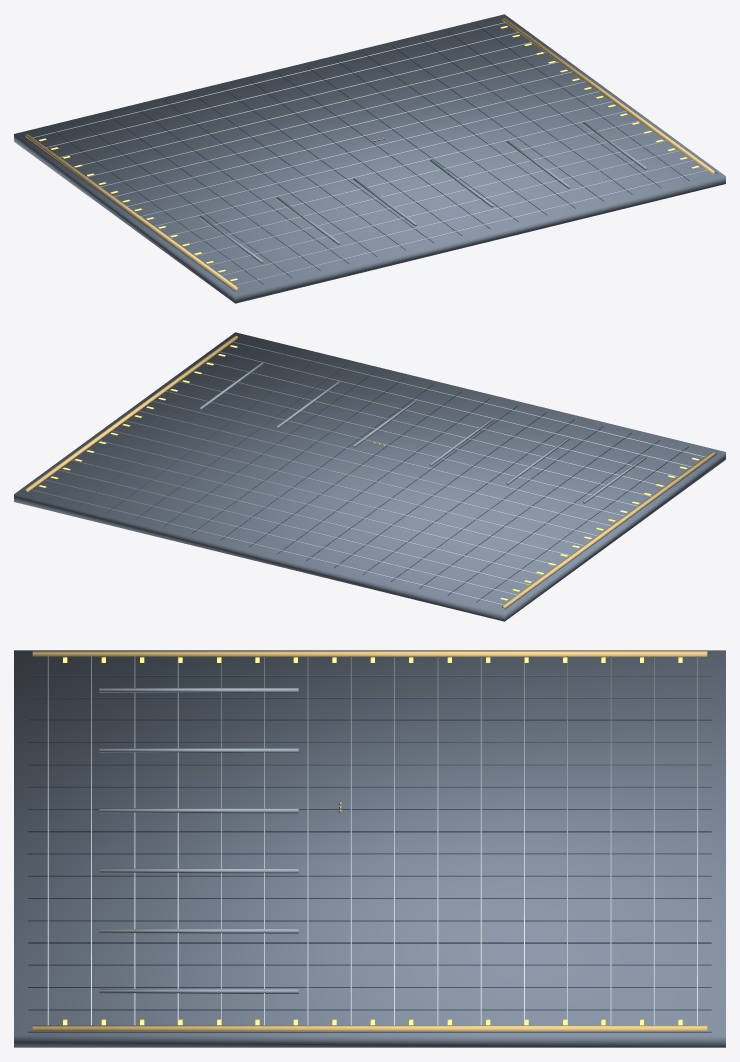
Rendered from 00_L90_OrbitalPropulsionQualificationDeck.glb.
3 renders of one model, top to bottom at view 1: azimuth 30°, elevation 25°; view 2: azimuth 150°, elevation 25°; view 3: azimuth 270°, elevation 25°, orthographic. The views are drawn at different scales.
Parts seen in each view (by area): view 1: L90_OrbitalPropulsionQualific_Part_0000, L90_OrbitalPropulsionQualific_Part_0002, L90_OrbitalPropulsionQualific_Part_0001, L90_OrbitalPropulsionQualific_Part_0003, L90_OrbitalPropulsionQualific_Part_0006; view 2: L90_OrbitalPropulsionQualific_Part_0000, L90_OrbitalPropulsionQualific_Part_0002, L90_OrbitalPropulsionQualific_Part_0001, L90_OrbitalPropulsionQualific_Part_0003, L90_OrbitalPropulsionQualific_Part_0006; view 3: L90_OrbitalPropulsionQualific_Part_0000, L90_OrbitalPropulsionQualific_Part_0001, L90_OrbitalPropulsionQualific_Part_0002, L90_OrbitalPropulsionQualific_Part_0003, L90_OrbitalPropulsionQualific_Part_0006.
Boxes of the visible parts, x1,y1,x2,y2 form: L90_OrbitalPropulsionQualific_Part_0000: (14,14,725,303); L90_OrbitalPropulsionQualific_Part_0002: (33,22,707,285); L90_OrbitalPropulsionQualific_Part_0001: (23,18,717,291); L90_OrbitalPropulsionQualific_Part_0003: (25,17,714,290); L90_OrbitalPropulsionQualific_Part_0006: (199,122,646,263); L90_OrbitalPropulsionQualific_Part_0000: (14,332,725,621); L90_OrbitalPropulsionQualific_Part_0002: (31,341,704,604); L90_OrbitalPropulsionQualific_Part_0001: (22,336,716,609); L90_OrbitalPropulsionQualific_Part_0003: (25,335,714,608); L90_OrbitalPropulsionQualific_Part_0006: (199,362,646,503); L90_OrbitalPropulsionQualific_Part_0000: (14,650,725,1047); L90_OrbitalPropulsionQualific_Part_0001: (28,653,711,1032); L90_OrbitalPropulsionQualific_Part_0002: (47,656,697,1025); L90_OrbitalPropulsionQualific_Part_0003: (32,651,707,1030); L90_OrbitalPropulsionQualific_Part_0006: (99,688,298,993).
Bounding box in the file's own units: 32 × 1.9 × 25.
